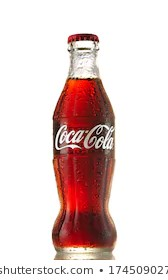coke-glass-bottle: (53, 32, 118, 252)
